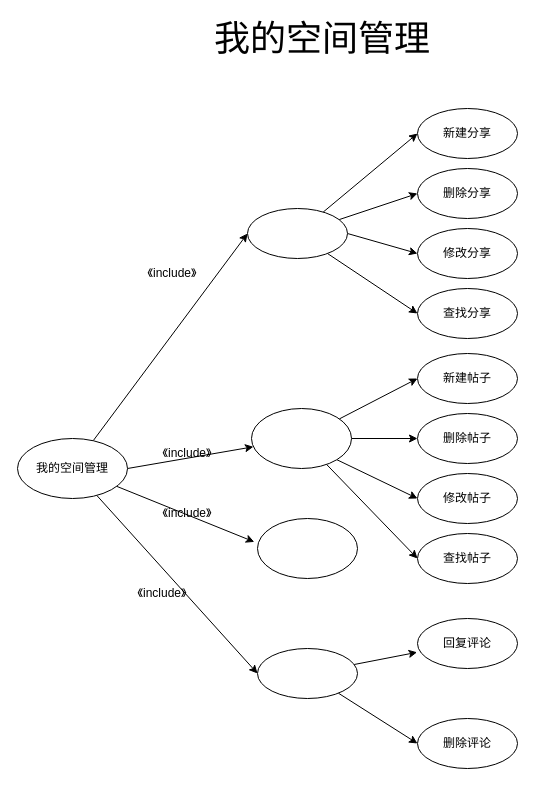
This 535x786 diagram has some shape labels left out. Each missing label, with the box of its shape:
分享管理: (246, 208, 348, 258)
帖子管理: (250, 408, 352, 468)
评论管理: (256, 648, 358, 698)
通知管理: (256, 518, 358, 578)
